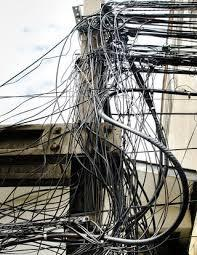wires: (75, 21, 197, 255)
